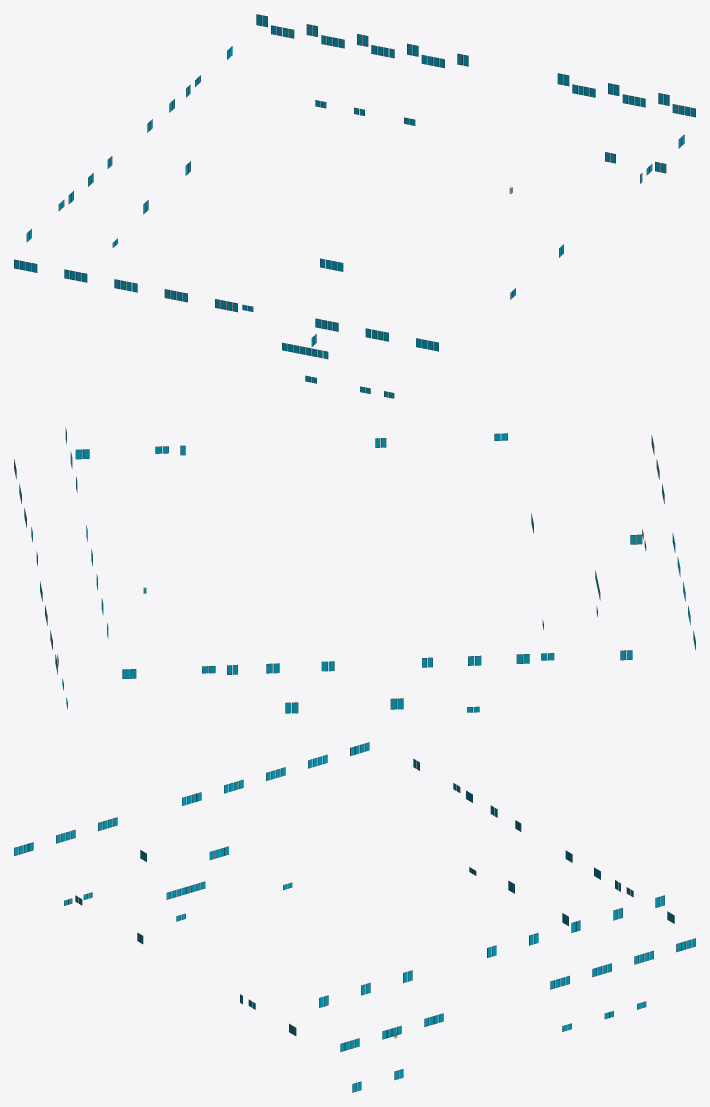
The model's file is on_ott_arc_220485353_windows.glb.
3 renders of one model, top to bottom at view 1: azimuth 30°, elevation 25°; view 2: azimuth 150°, elevation 25°; view 3: azimuth 270°, elevation 25°, orthographic. The views are drawn at different scales.
Size of the model in its own units: 72.02 by 13.16 by 68.76.
